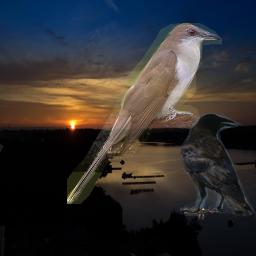Crow: (180, 113, 256, 220)
Cuckoo: (67, 23, 222, 204)
